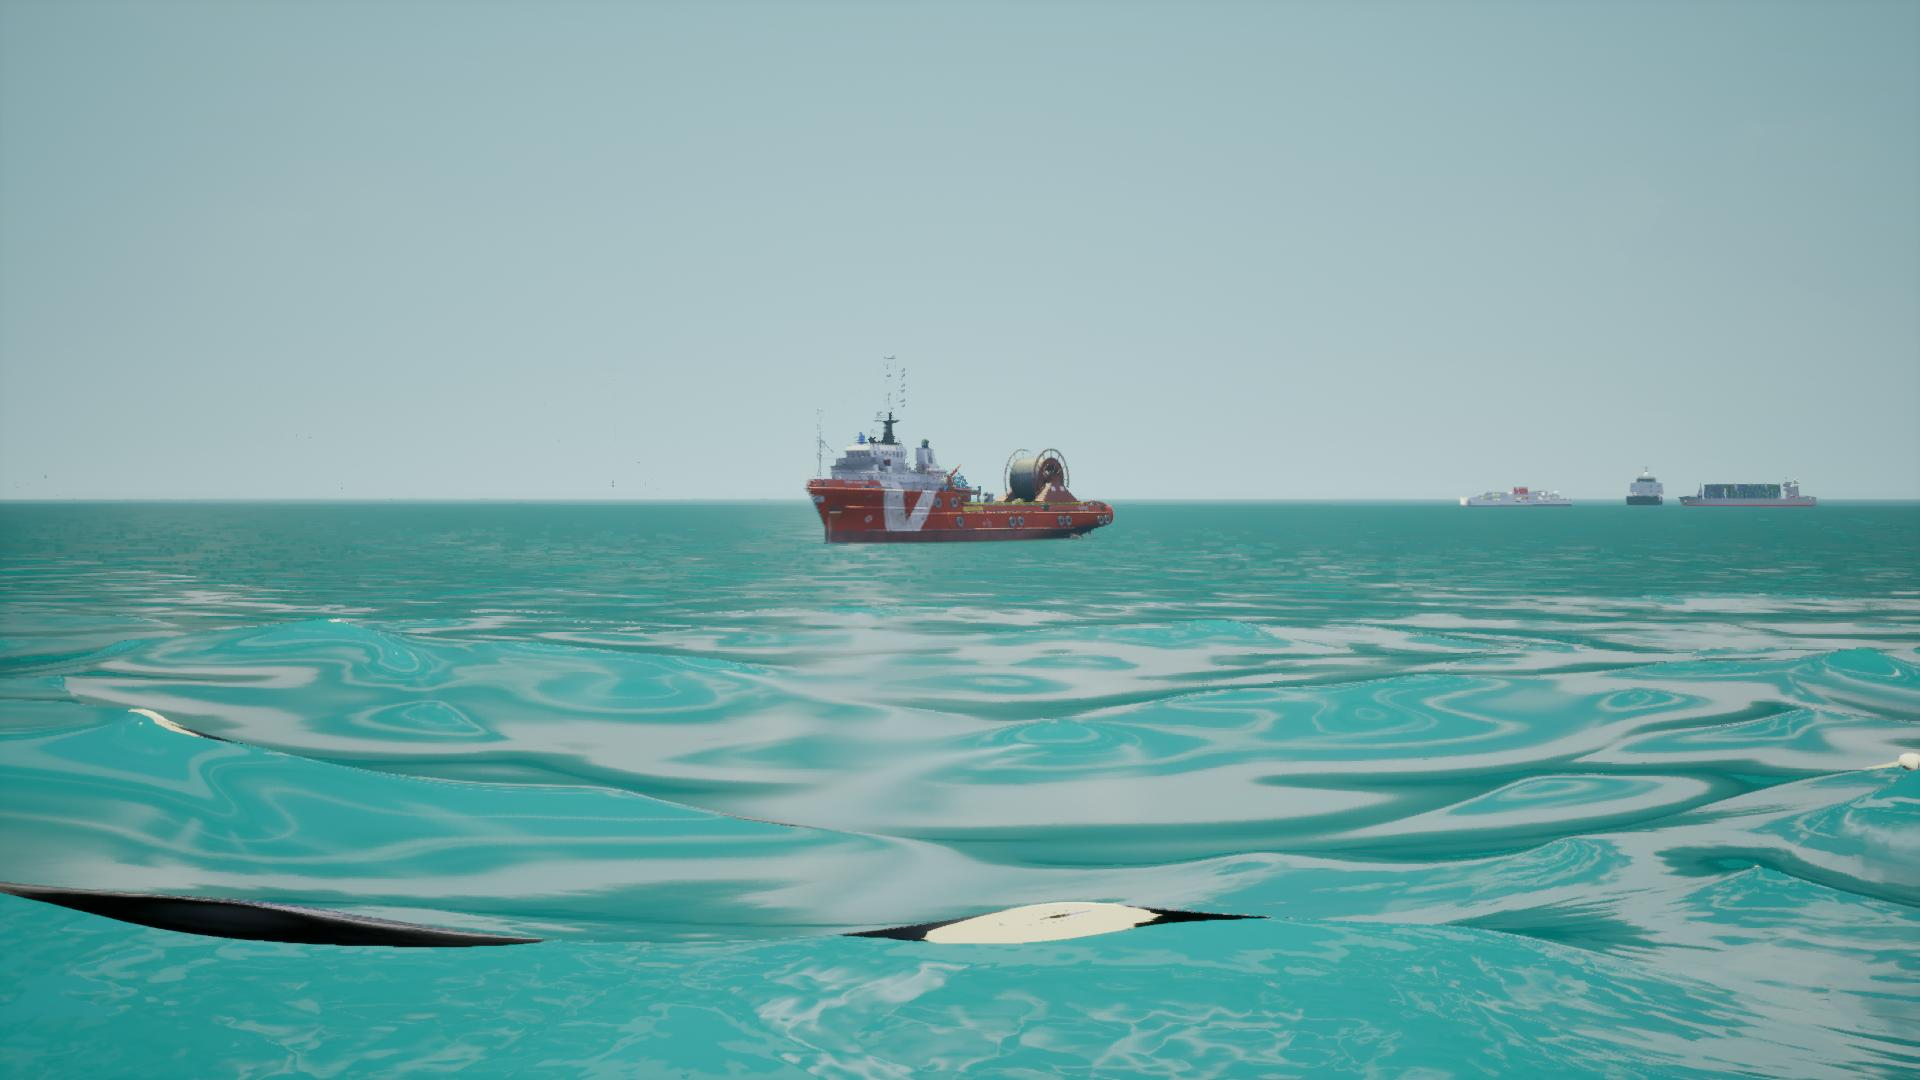Tug Boat: (804, 357, 1108, 549)
